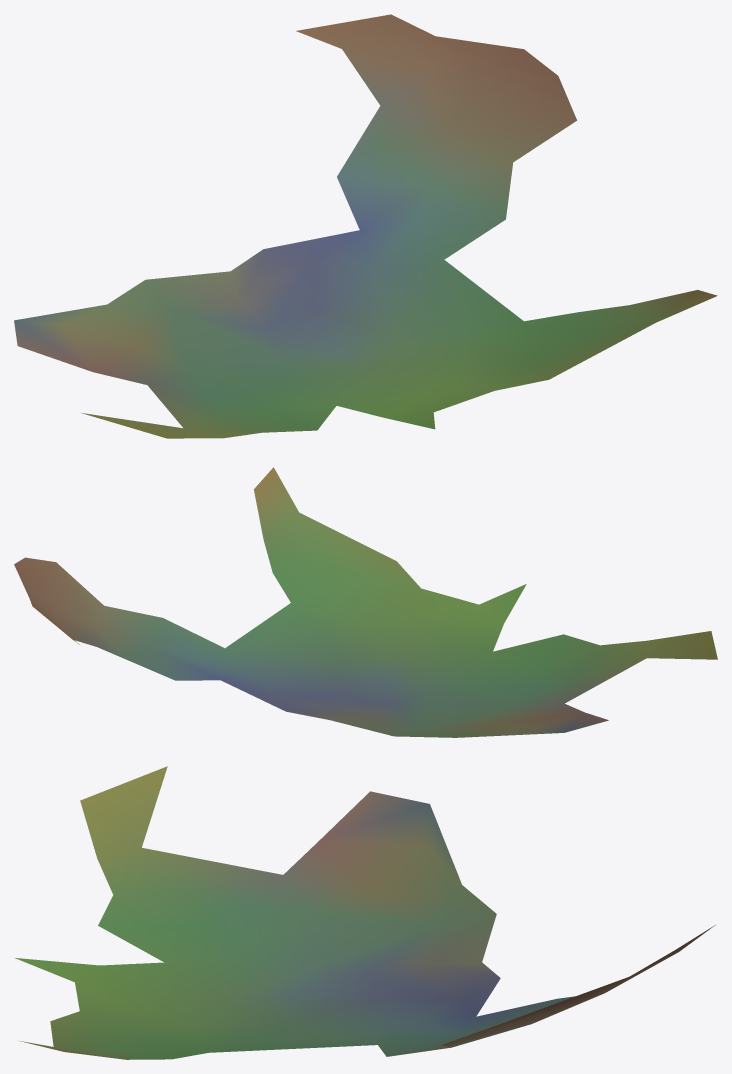
The model's file is space-galaxies-irregular-galaxy_v14.glb.
3 views of the same model, one above another, from view 1: azimuth 30°, elevation 25°; view 2: azimuth 150°, elevation 25°; view 3: azimuth 270°, elevation 25° (orthographic). The views are drawn at different scales.
Parts seen in each view (by area): view 1: Irregular Galaxy_v14; view 2: Irregular Galaxy_v14; view 3: Irregular Galaxy_v14.
Part boxes in pixels (left/top/right/bottom): Irregular Galaxy_v14: left=14, top=14, right=717, bottom=438; Irregular Galaxy_v14: left=14, top=467, right=717, bottom=737; Irregular Galaxy_v14: left=15, top=766, right=715, bottom=1059.
Bounding box in the file's own units: 0.5 × 0.116 × 0.4408.
